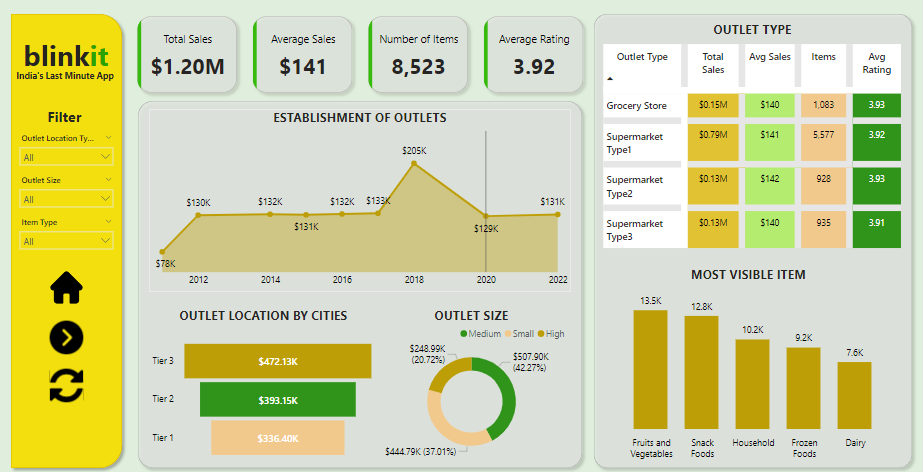

What the dashboard file says about the page in this screenshot:
{"tool":"powerbi","page":{"name":"Dashboard1","canvas":[1400,720],"ordinal":0},"visuals":[{"type":"shape","box":[7.6,13.6,186.4,706.1],"z":0},{"type":"textbox","box":[30.3,50,151.5,68.2],"z":1000},{"type":"textbox","box":[19.7,101.5,171.2,33.3],"z":2000},{"type":"cardVisual","fields":{"Data":["Calculations.Total Sales","Calculations.Average Sales","Calculations.Number of Items","Calculations.Average Rating"]},"box":[190.9,9.1,713.6,150],"z":3000},{"type":"shape","box":[200,145.5,690.9,574.2],"z":4000},{"type":"shape","box":[890.9,13.6,500,706.1],"z":5000},{"type":"lineChart","title":"ESTABLISHMENT OF OUTLETS","fields":{"Category":["BlinkIT Grocery Data.Outlet Establishment Year"],"Y":["Calculations.Total Sales"]},"box":[225.8,166.7,639.4,277.3],"z":6000},{"type":"funnel","title":"OUTLET LOCATION BY CITIES","fields":{"Category":["BlinkIT Grocery Data.Outlet Location Type"],"Y":["Calculations.Total Sales"]},"box":[225.8,466.7,347,253],"z":7000},{"type":"donutChart","title":"OUTLET SIZE","fields":{"Y":["Calculations.Total Sales"],"Category":["BlinkIT Grocery Data.Outlet Size"]},"box":[563.6,466.7,301.5,237.9],"z":8000},{"type":"pivotTable","title":"OUTLET TYPE","fields":{"Rows":["BlinkIT Grocery Data.Outlet Type"],"Values":["Calculations.Total Sales","Calculations.Average Sales","Calculations.Number of Items","Calculations.Average Rating"]},"box":[909.1,33.3,462.1,354.5],"z":9000},{"type":"columnChart","title":"MOST VISIBLE ITEM ","fields":{"Category":["BlinkIT Grocery Data.Item Type"],"Y":["Sum(BlinkIT Grocery Data.Item Weight)"]},"box":[909.1,404.5,450,300],"z":10000},{"type":"slicer","fields":{"Values":["BlinkIT Grocery Data.Outlet Location Type"]},"box":[19.7,197,162.1,63.6],"z":11000},{"type":"slicer","fields":{"Values":["BlinkIT Grocery Data.Outlet Size"]},"box":[19.7,260.6,162.1,63.6],"z":12000},{"type":"slicer","fields":{"Values":["BlinkIT Grocery Data.Item Type"]},"box":[19.7,324.2,162.1,63.6],"z":13000},{"type":"textbox","box":[66.7,159.1,69.7,45.5],"z":14000},{"type":"image","box":[71.2,407.6,59.1,59.1],"z":15000},{"type":"actionButton","box":[71.2,483.3,59.1,59.1],"z":16000},{"type":"actionButton","box":[71.2,556.1,59.1,59.1],"z":17000}]}

Visuals, with their boxes in screenshot pixels (x1, y1, x2, y2), scaled from the page's 1400x720 canvas onto the 923x472 screenshot:
shape: 5,9,128,471
textbox: 20,33,120,77
textbox: 13,67,126,88
cardVisual - Calculations.Total Sales x Calculations.Average Sales: 126,6,596,104
shape: 132,95,587,471
shape: 587,9,917,471
"ESTABLISHMENT OF OUTLETS" lineChart: 149,109,570,291
"OUTLET LOCATION BY CITIES" funnel: 149,306,378,471
"OUTLET SIZE" donutChart: 372,306,570,462
"OUTLET TYPE" pivotTable: 599,22,904,254
"MOST VISIBLE ITEM " columnChart: 599,265,896,462
slicer - BlinkIT Grocery Data.Outlet Location Type: 13,129,120,171
slicer - BlinkIT Grocery Data.Outlet Size: 13,171,120,213
slicer - BlinkIT Grocery Data.Item Type: 13,213,120,254
textbox: 44,104,90,134
image: 47,267,86,306
actionButton: 47,317,86,356
actionButton: 47,365,86,403
